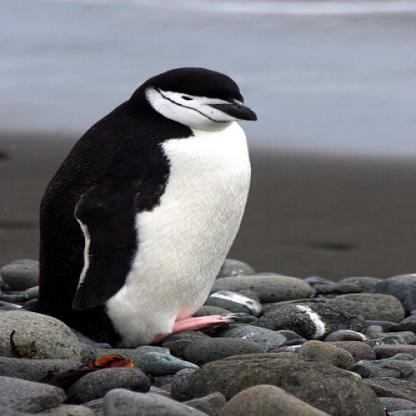Penguin: (16, 57, 294, 367)
